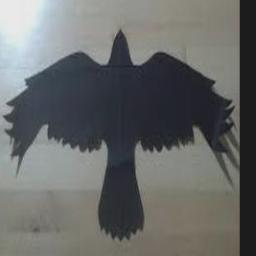Crow: (4, 28, 234, 240)
